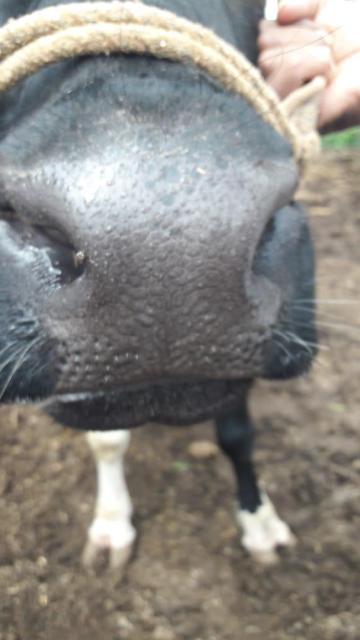Muzzle: (35, 166, 273, 366)
